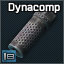AK Spikes Tactical Dynacomp 7.62x39 muzzle brake & compensator: (0, 0, 64, 64)
